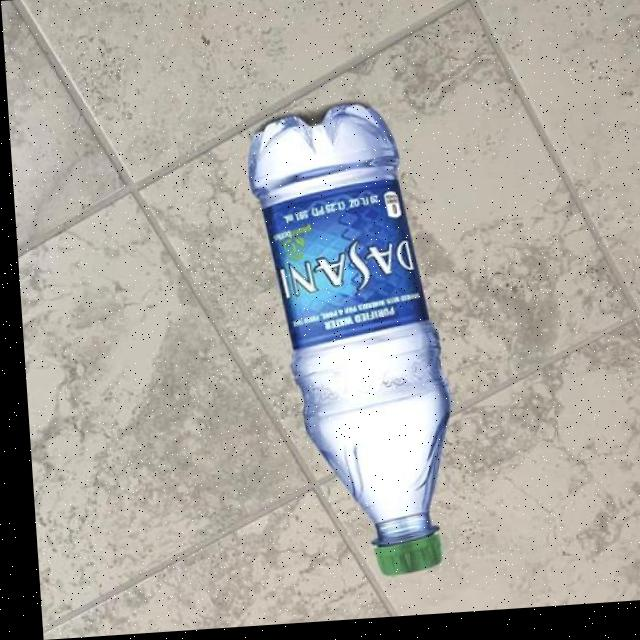bottle: (240, 104, 454, 589)
